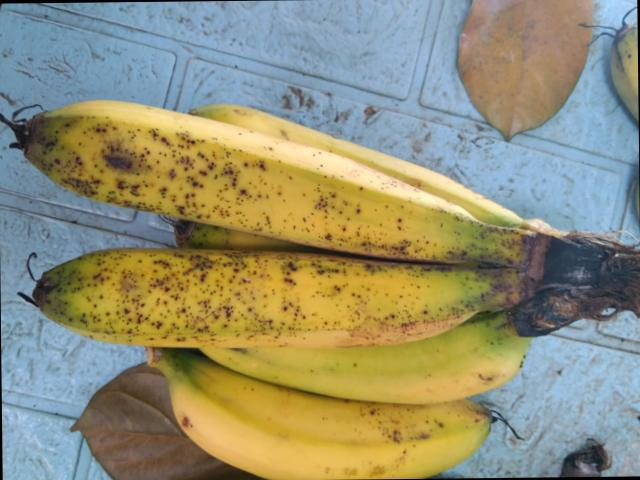ripe: (25, 90, 533, 265), (28, 234, 487, 355), (118, 370, 515, 479)
